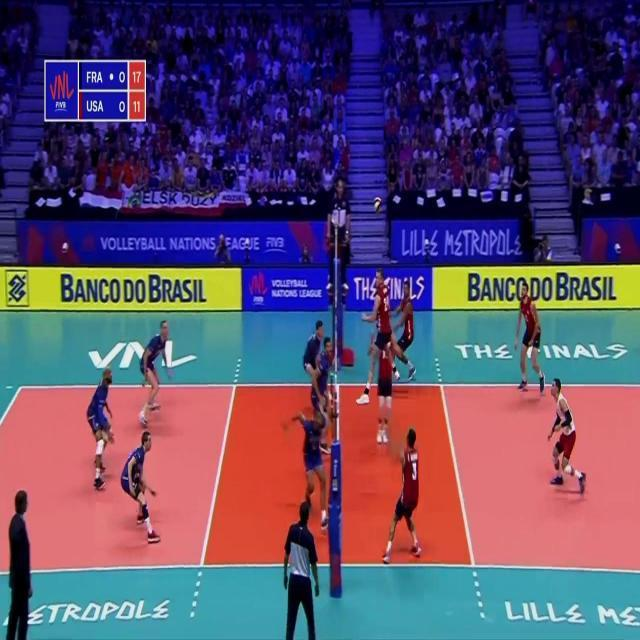volleyball: (374, 195, 384, 212)
